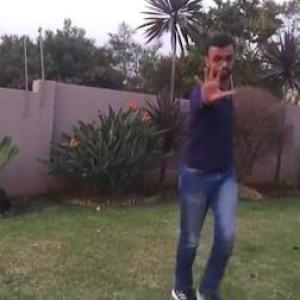follow_hand: (188, 58, 237, 107)
